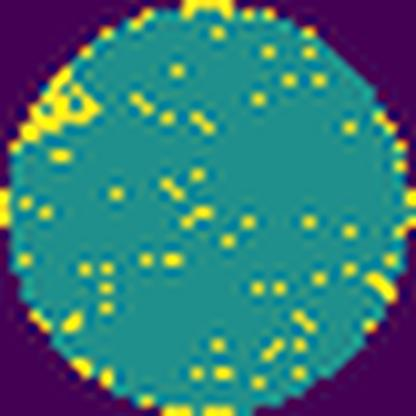Edge-Loc: (8, 62, 110, 158), (182, 0, 232, 24)
